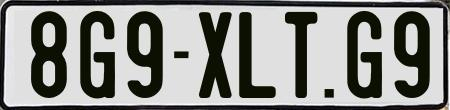8: (31, 10, 68, 97)
9: (126, 10, 168, 98), (391, 10, 430, 100)
G: (347, 10, 387, 102), (78, 9, 113, 97)
L: (238, 11, 280, 103)
T: (282, 10, 318, 101)
X: (198, 12, 232, 100)
